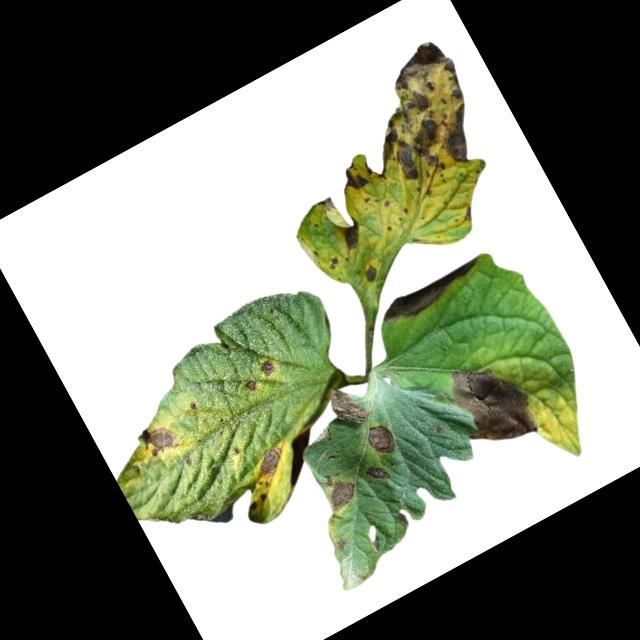Early_blight: (334, 32, 502, 206), (437, 347, 545, 462), (374, 250, 489, 331), (324, 381, 372, 433), (137, 418, 184, 465), (316, 467, 360, 513), (251, 441, 291, 480), (362, 419, 400, 460), (332, 215, 369, 254), (337, 162, 370, 195), (365, 460, 391, 488), (360, 262, 382, 285), (258, 361, 278, 380), (241, 378, 259, 396), (323, 255, 341, 272)
